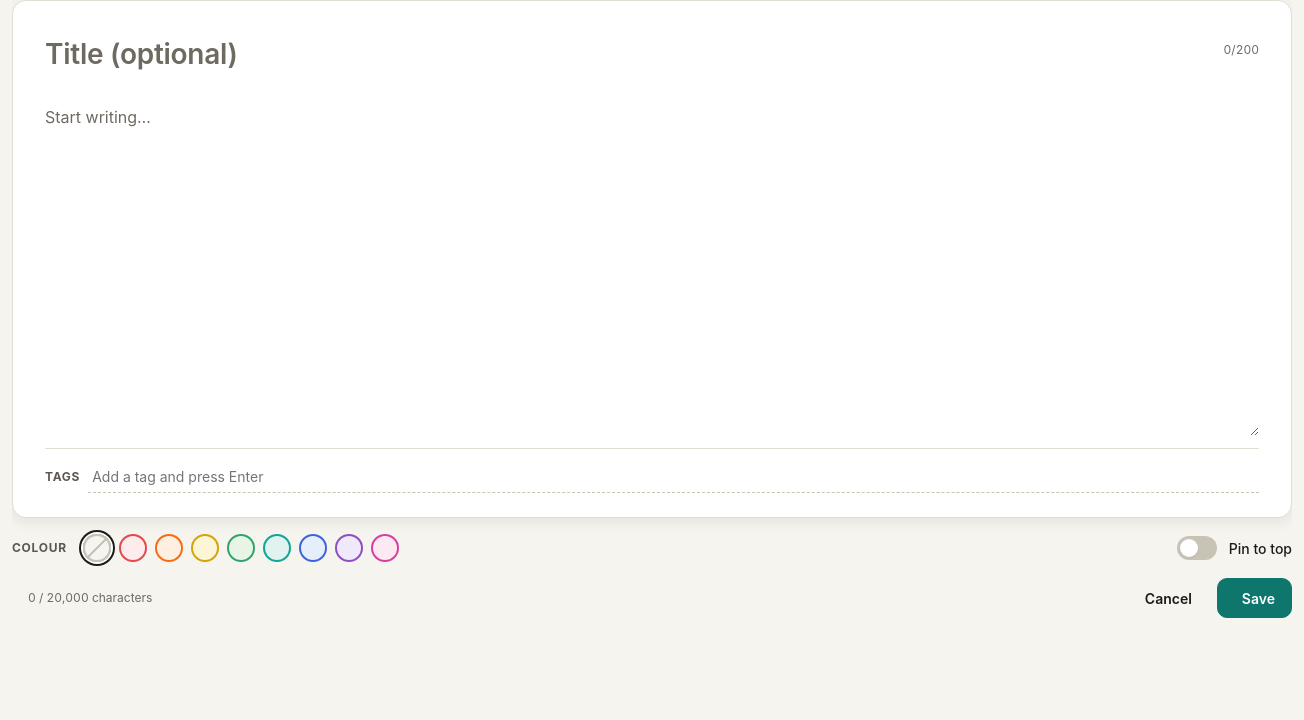
NoteEditorComponent › shows the character count
The width and height of the screenshot is (1304, 720).
In the text box with id "note-content": [652, 266] box [45,96,1259,436], type "abcde"
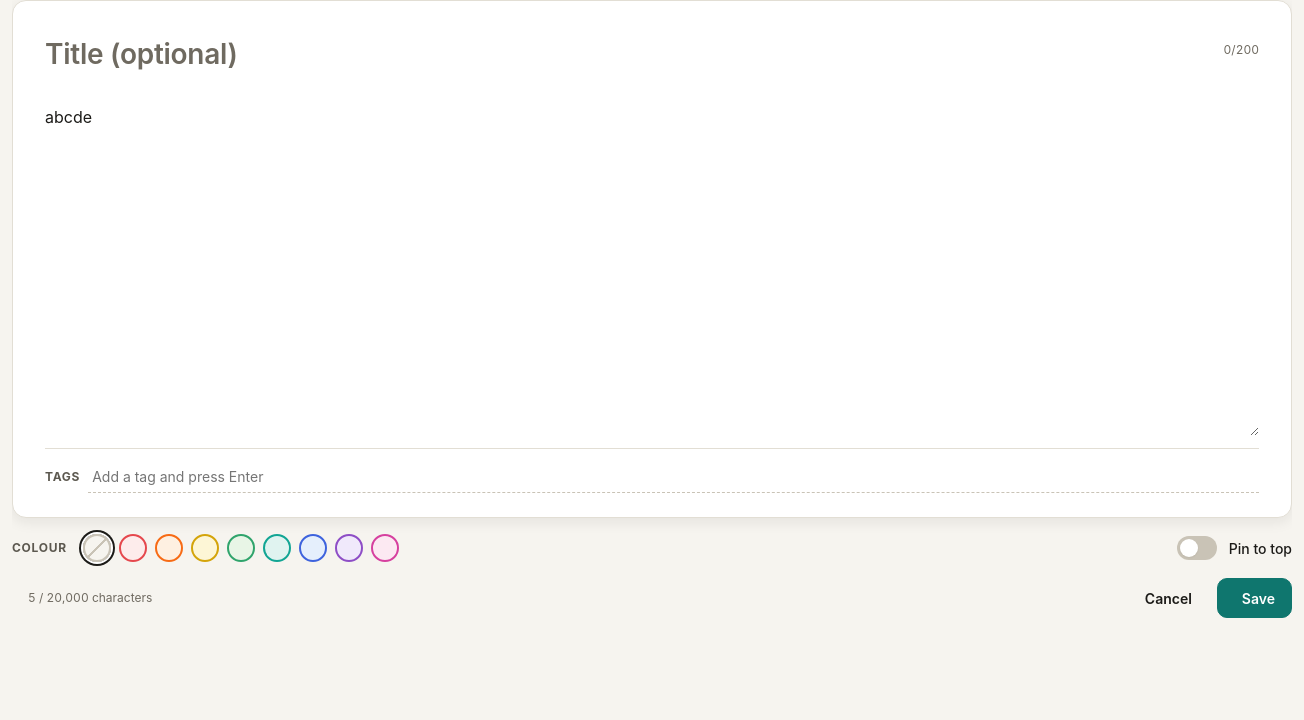
Result: the text with id "note-content-count" shows "5 / 20,000" at [28,590,152,605]
